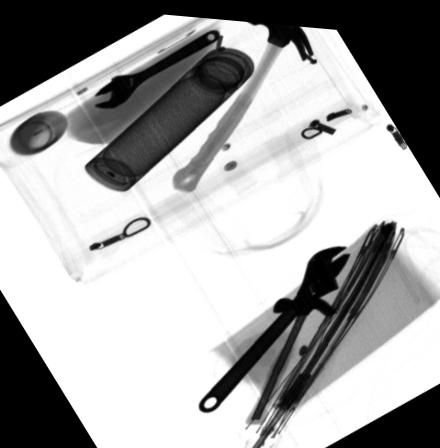Hammer: (168, 18, 312, 187), (244, 288, 338, 420)
Wrench: (197, 238, 350, 409), (93, 23, 221, 105)
